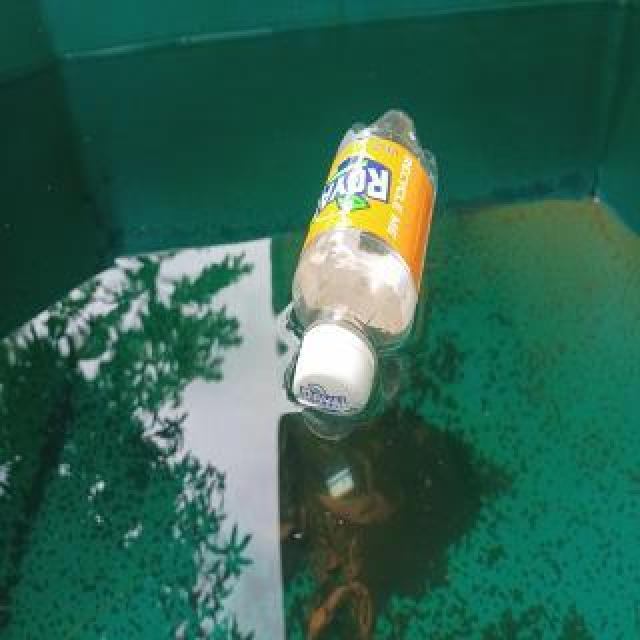bottle: (285, 99, 445, 423)
